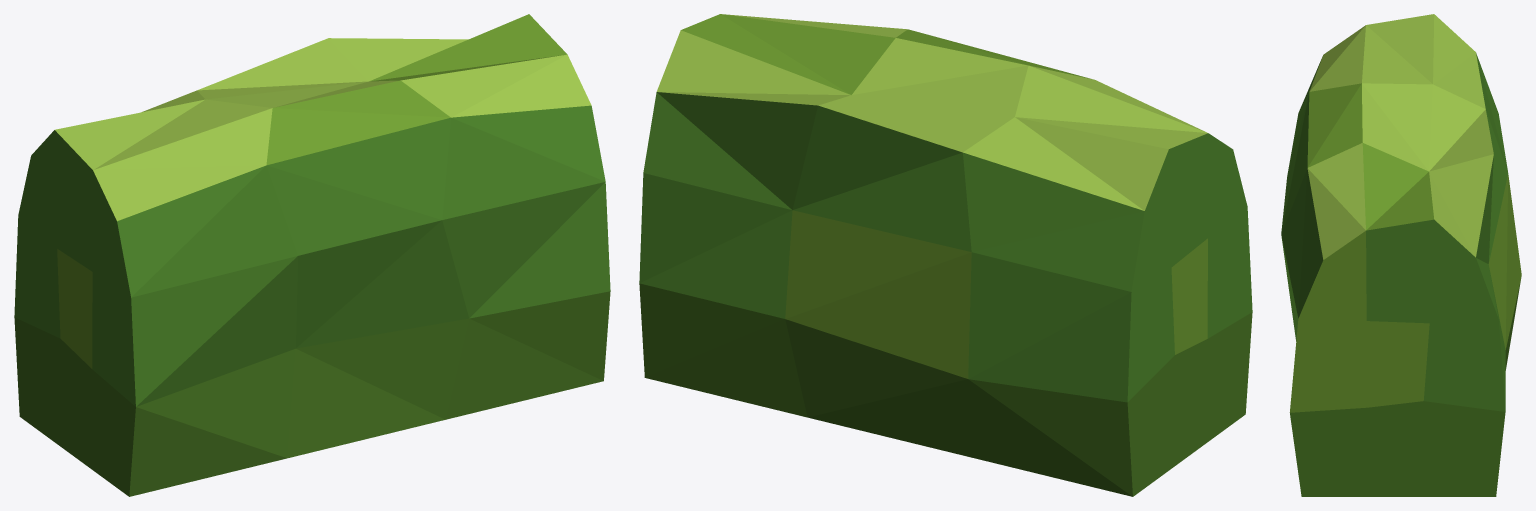
Rendered from hedge_segment.glb.
The picture shows the model from 3 angles, left to right: view 1: azimuth 30°, elevation 25°; view 2: azimuth 150°, elevation 25°; view 3: azimuth 270°, elevation 25°; orthographic projection. The views are drawn at different scales.
Parts seen in each view (by area): view 1: hedge.segment; view 2: hedge.segment; view 3: hedge.segment.
Boxes of the visible parts, bbox=[...] form: hedge.segment: bbox=[14, 14, 610, 496]; hedge.segment: bbox=[639, 14, 1252, 496]; hedge.segment: bbox=[1281, 14, 1521, 496].
Bounding box in the file's own units: 2 × 1.29 × 0.989.
